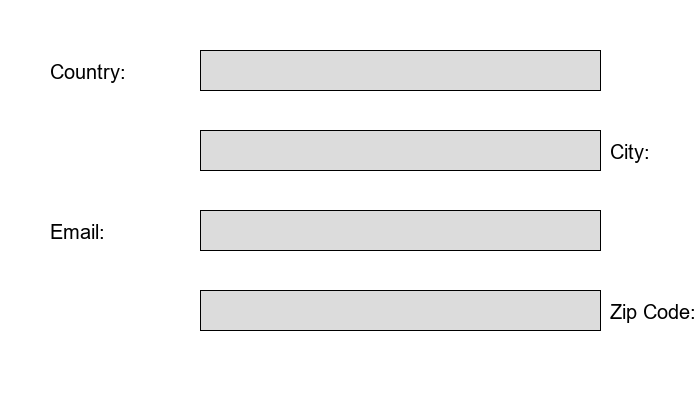Label: (610, 300, 690, 319), (50, 60, 120, 79), (50, 220, 99, 235), (610, 140, 644, 159)
Textbox: (200, 50, 600, 90), (200, 130, 600, 170), (200, 210, 600, 250), (200, 290, 600, 330)
